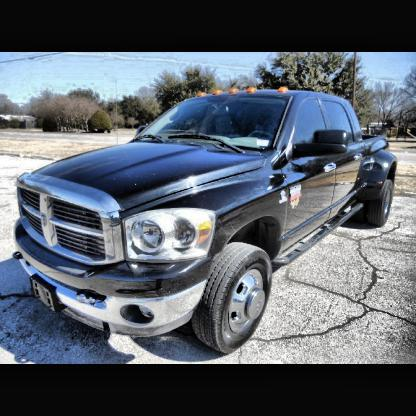Dodge Ram Pickup 3500 Quad Cab 2009: (16, 111, 402, 364)
